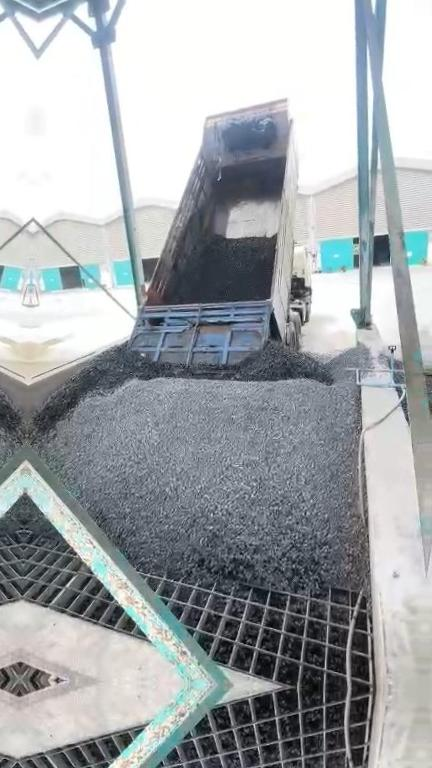gravel: (27, 340, 375, 589), (169, 235, 275, 303), (25, 493, 54, 536)
sand: (29, 332, 76, 378)
